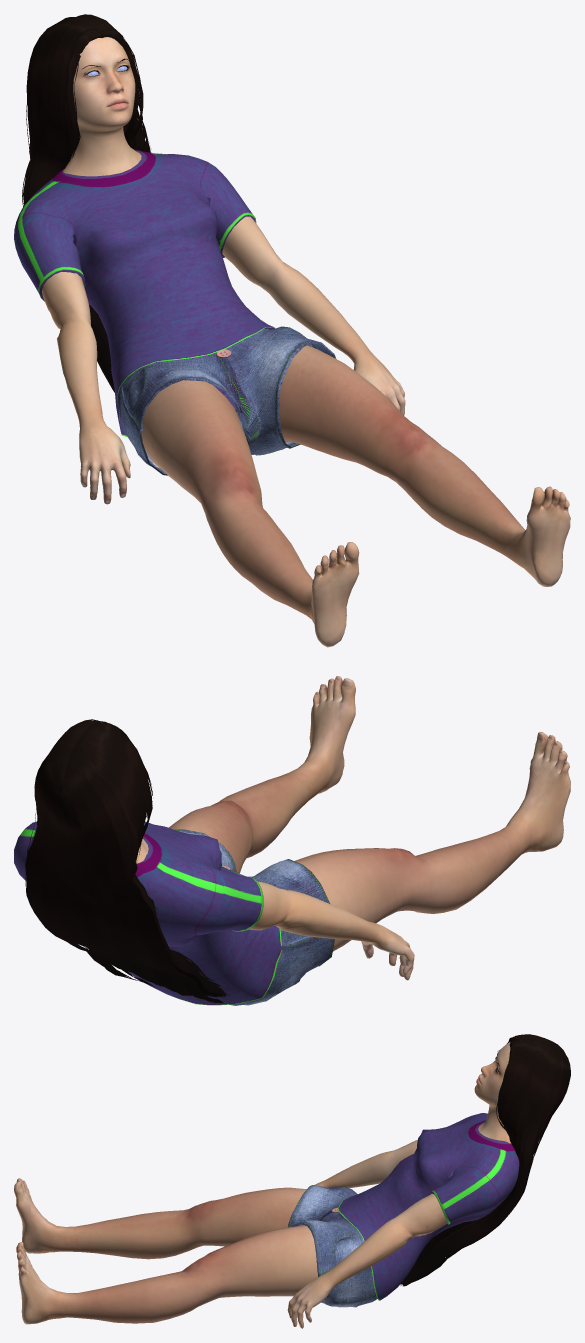
The model's file is priya-reclined-in-bed-3d-person.glb.
3 renders of one model, top to bottom at view 1: azimuth 30°, elevation 25°; view 2: azimuth 150°, elevation 25°; view 3: azimuth 270°, elevation 25°, orthographic. The views are drawn at different scales.
Visible parts, largest first — view 1: lie_priya_body, lie_priya_body.female_casualsuit02, lie_priya_body.long01; view 2: lie_priya_body, lie_priya_body.long01, lie_priya_body.female_casualsuit02; view 3: lie_priya_body, lie_priya_body.female_casualsuit02, lie_priya_body.long01.
Part boxes in pixels (x1,y1,x2,y2): lie_priya_body: (41,37,570,647); lie_priya_body.female_casualsuit02: (14,150,336,475); lie_priya_body.long01: (22,14,223,392); lie_priya_body: (136,676,570,980); lie_priya_body.long01: (25,719,229,1003); lie_priya_body.female_casualsuit02: (14,821,334,1005); lie_priya_body: (14,1042,510,1328); lie_priya_body.female_casualsuit02: (288,1113,519,1307); lie_priya_body.long01: (400,1034,570,1286).
Bounding box in the file's own units: 0.6307 × 0.6562 × 1.29.
7 materials, 7 textured.
